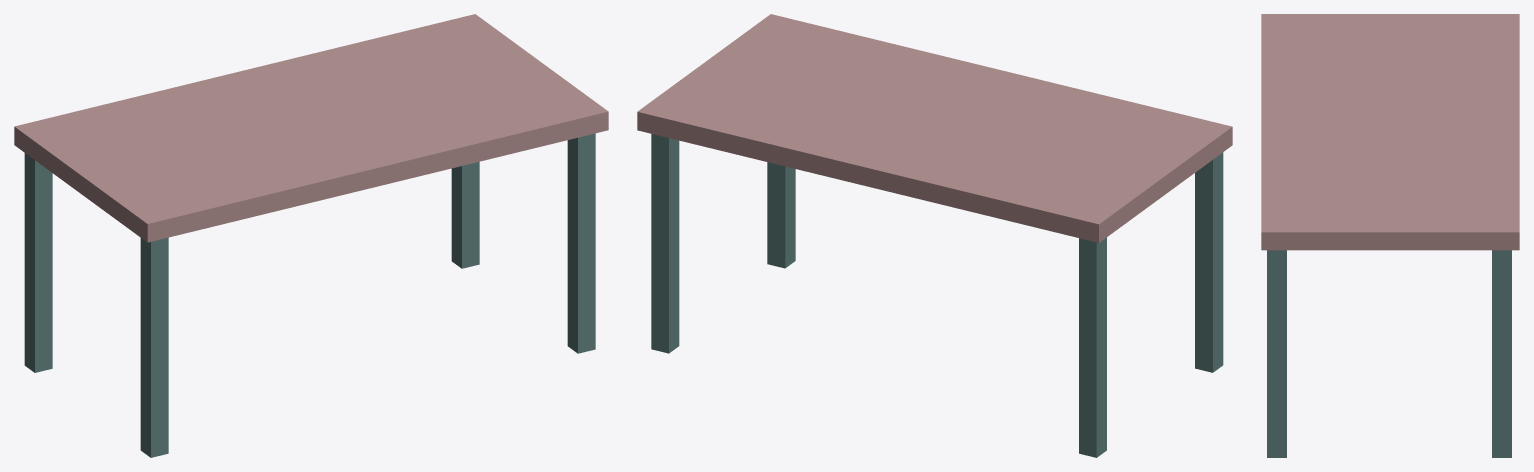
The model's file is TableFBX.fbx.
3 views of the same model, side by side, from view 1: azimuth 30°, elevation 25°; view 2: azimuth 150°, elevation 25°; view 3: azimuth 270°, elevation 25° (orthographic). The views are drawn at different scales.
Parts seen in each view (by area): view 1: TableTop, TableLeg1, TableLeg2, TableLeg5, TableLeg4; view 2: TableTop, TableLeg4, TableLeg1, TableLeg5, TableLeg2; view 3: TableTop, TableLeg2, TableLeg4.
Boxes of the visible parts, x1,y1,x2,y2 form: TableTop: (14, 14, 608, 242); TableLeg1: (140, 237, 168, 457); TableLeg2: (567, 133, 595, 353); TableLeg5: (24, 153, 52, 372); TableLeg4: (451, 161, 479, 268); TableTop: (637, 14, 1232, 242); TableLeg4: (651, 134, 679, 353); TableLeg1: (1195, 152, 1223, 372); TableLeg5: (1079, 237, 1106, 457); TableLeg2: (767, 162, 795, 268); TableTop: (1261, 14, 1519, 250); TableLeg2: (1267, 250, 1286, 457); TableLeg4: (1492, 250, 1511, 457).
Bounding box in the file's own units: 25.93 × 12.77 × 12.99.
